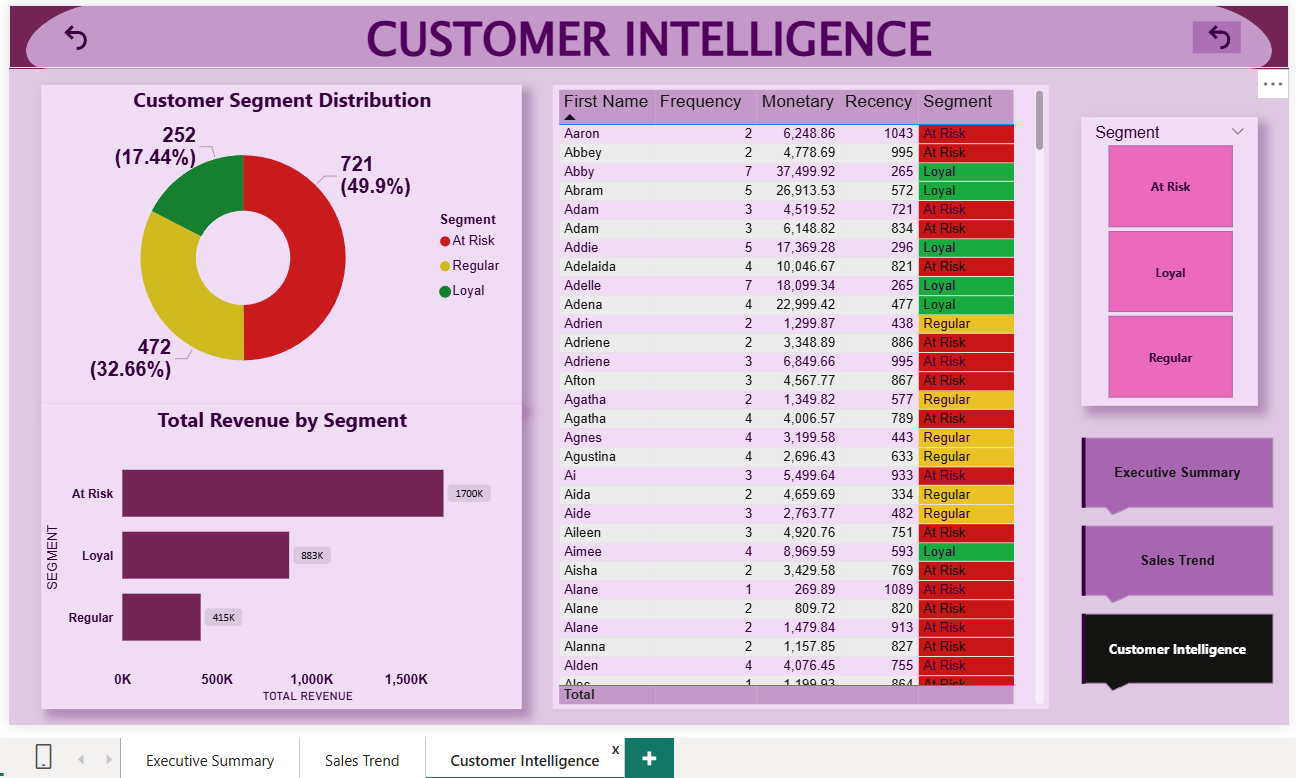

The page's visual inventory and layout, read from the dashboard file:
{"tool":"powerbi","page":{"name":"Customer Intelligence","canvas":[1280,720],"ordinal":2},"visuals":[{"type":"donutChart","title":"Customer Segment Distribution","fields":{"Category":["capstone customer_segments.Segment"],"Y":["Count(capstone customer_segments.Customer_id)"]},"box":[32,80,480,320],"z":0},{"type":"clusteredBarChart","title":"Total Revenue by Segment","fields":{"Category":["capstone customer_segments.Segment"],"Y":["capstone brands.Total Revenue"]},"box":[32,400,480,304],"z":1000},{"type":"tableEx","fields":{"Values":["capstone customers.First_name","capstone customer_segments.Frequency","capstone customer_segments.Monetary","capstone customer_segments.Recency","capstone customer_segments.Segment"]},"box":[544,80,496,624],"z":2000},{"type":"slicer","fields":{"Values":["capstone customer_segments.Segment"]},"box":[1072,112,176,288],"z":3000},{"type":"shape","box":[0,0,1280,64],"z":4000},{"type":"pageNavigator","box":[1072,432,192,256],"z":6000},{"type":"actionButton","box":[1184,16,48,32],"z":7000},{"type":"actionButton","box":[48,16,32,32],"z":8000}]}

Visuals, with their boxes on the page's 1280x720 design canvas (x1, y1, x2, y2). These are canvas units, not pixel positions in the 1296x778 screenshot, which may show the page scaled, cropped or inside an application window:
"Customer Segment Distribution" donutChart: x1=32 y1=80 x2=512 y2=400
"Total Revenue by Segment" clusteredBarChart: x1=32 y1=400 x2=512 y2=704
tableEx - capstone customers.First_name x capstone customer_segments.Frequency: x1=544 y1=80 x2=1040 y2=704
slicer - capstone customer_segments.Segment: x1=1072 y1=112 x2=1248 y2=400
shape: x1=0 y1=0 x2=1280 y2=64
pageNavigator: x1=1072 y1=432 x2=1264 y2=688
actionButton: x1=1184 y1=16 x2=1232 y2=48
actionButton: x1=48 y1=16 x2=80 y2=48
